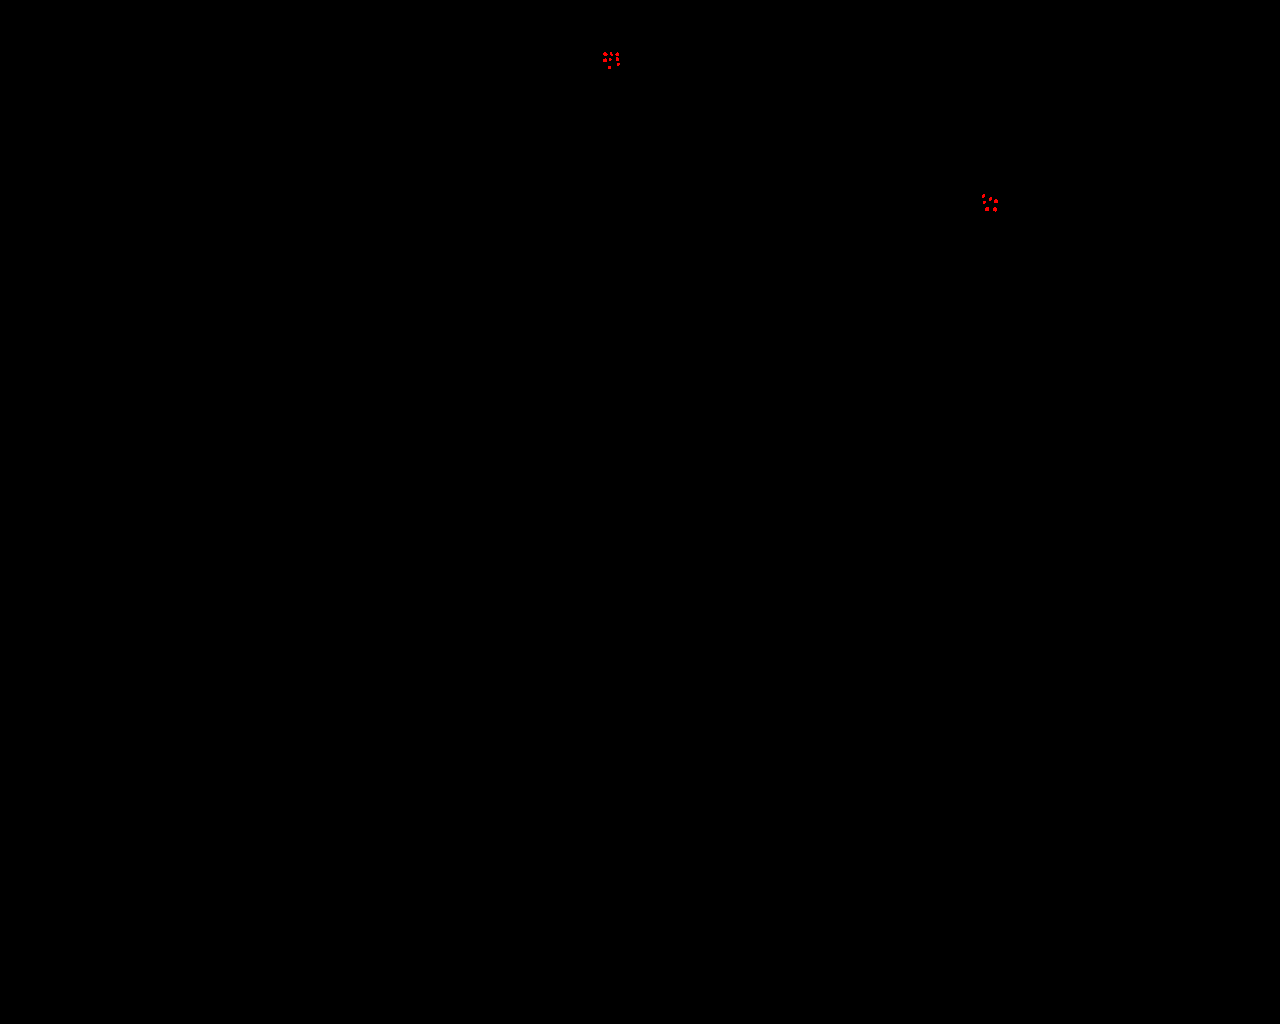Target: (603, 52, 608, 56), (993, 207, 997, 212), (994, 199, 998, 203), (985, 207, 990, 211), (610, 52, 613, 56), (615, 52, 619, 56), (603, 59, 607, 62), (616, 63, 620, 66), (608, 66, 611, 69), (982, 194, 985, 197), (983, 201, 986, 204), (616, 57, 619, 61), (609, 59, 612, 61), (990, 197, 992, 201)
